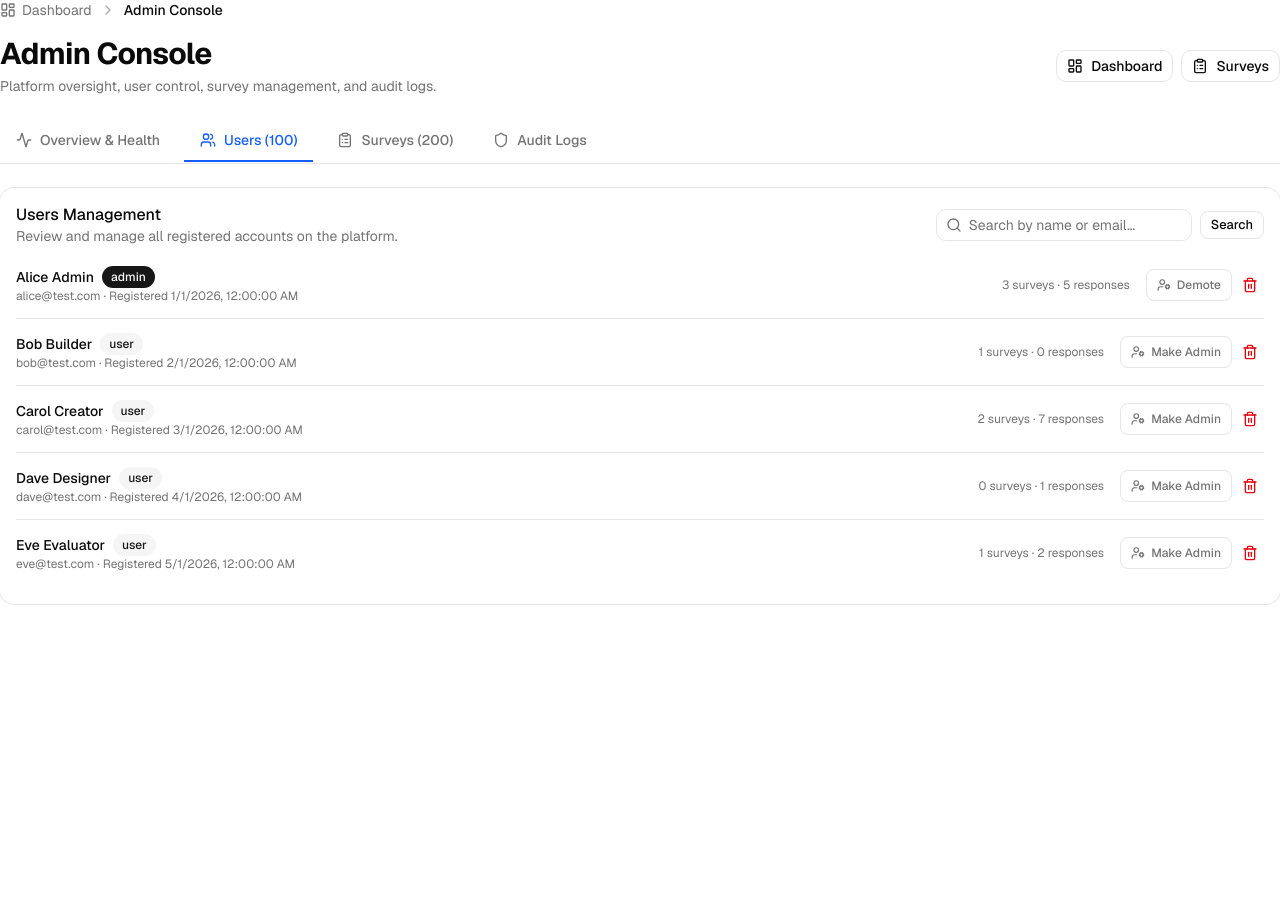
it: AdminPage › opens a confirmation dialog when deactivate is clicked
What coordinates should you click on to do the following:
click the button named "Deactivate Bob Builder"
I would click on:
 (1250, 352)
Its box is [1236, 338, 1264, 366].
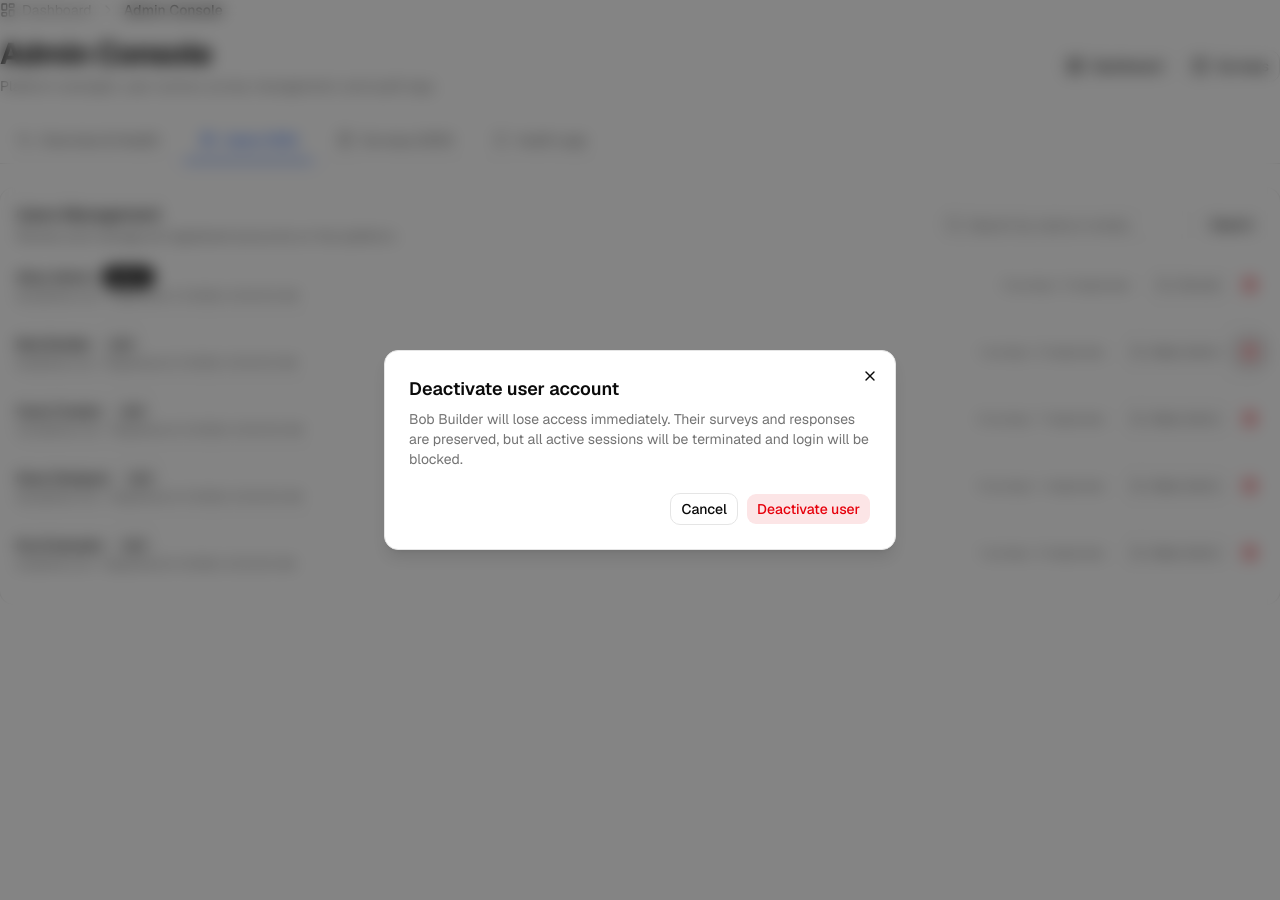
Result: the heading "Deactivate user account" is shown at [409, 377, 619, 400]
Result: the text "Bob Builder will lose access immediately" is shown at [409, 410, 869, 468]
